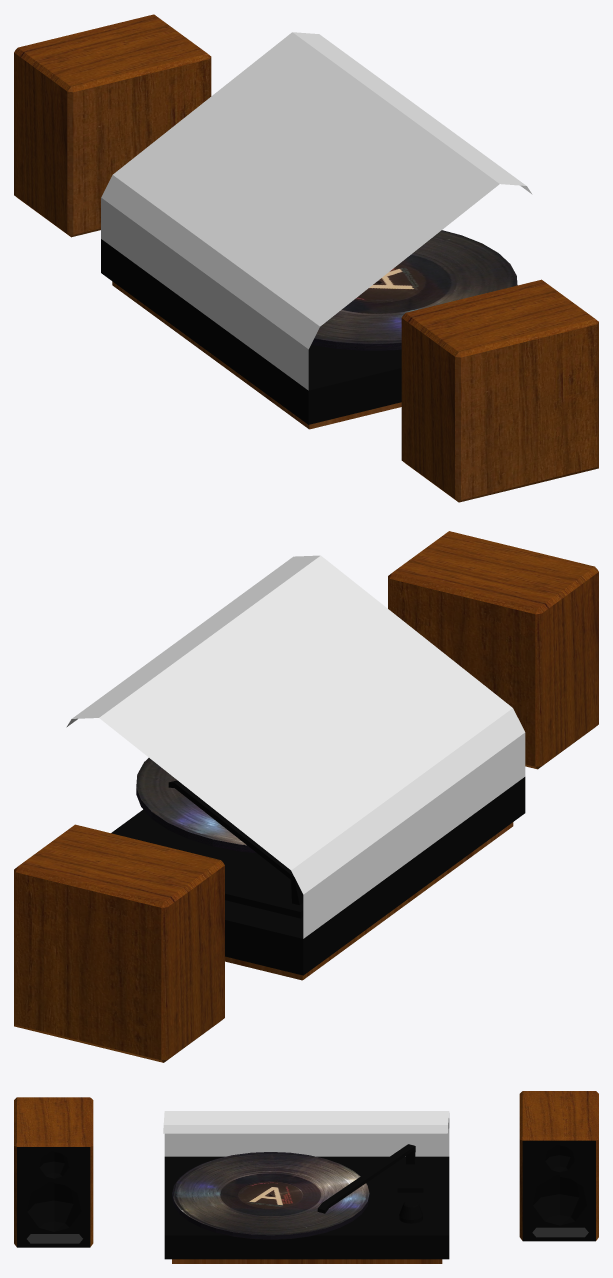
Rendered from turntable and speakers.glb.
The picture shows the model from 3 angles, top to bottom: view 1: azimuth 30°, elevation 25°; view 2: azimuth 150°, elevation 25°; view 3: azimuth 270°, elevation 25°; orthographic projection. The views are drawn at different scales.
Parts seen in each view (by area): view 1: Record Player with Speakers; view 2: Record Player with Speakers; view 3: Record Player with Speakers.
Boxes of the visible parts, x1,y1,x2,y2 form: Record Player with Speakers: [14, 14, 598, 502]; Record Player with Speakers: [14, 531, 598, 1062]; Record Player with Speakers: [14, 1091, 598, 1263].
Bounding box in the file's own units: 1.42 × 1.04 × 3.93.
Materials: 6 (2 with a texture image).
